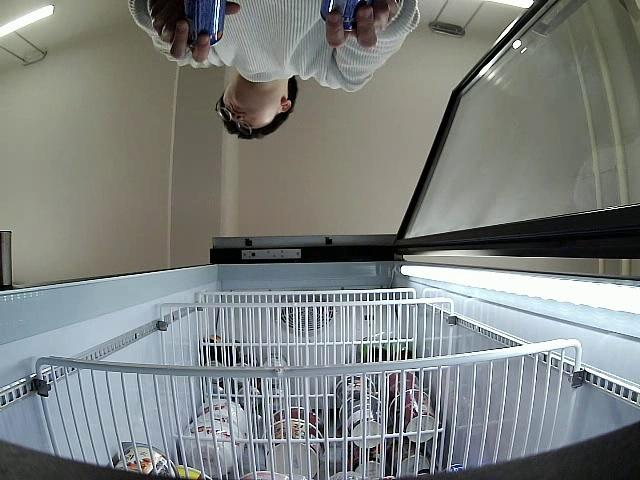00_hand: (146, 0, 241, 62), (327, 0, 401, 51)
16_hot6: (173, 0, 225, 47), (320, 0, 371, 33)
